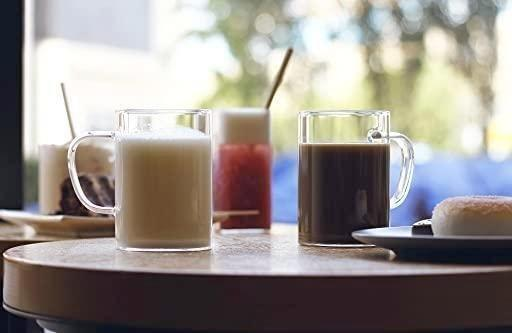glass-mug: (68, 105, 219, 257), (293, 104, 420, 255)
